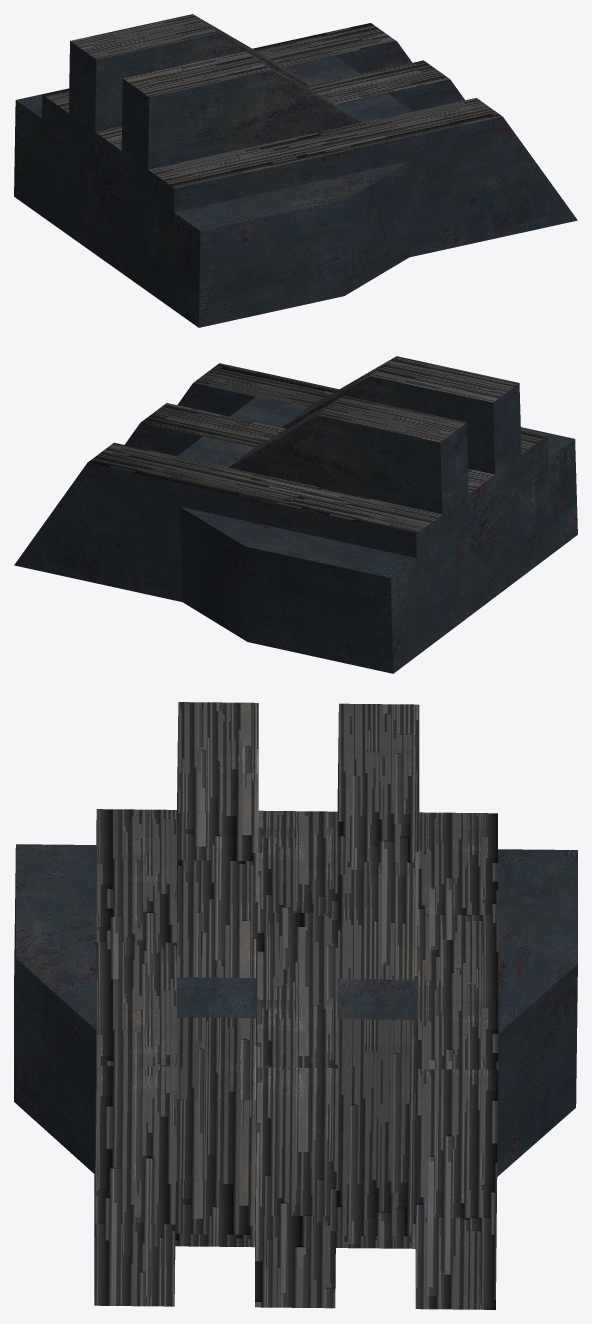
File: sword holder v4.glb
3 renders of one model, top to bottom at view 1: azimuth 30°, elevation 25°; view 2: azimuth 150°, elevation 25°; view 3: azimuth 270°, elevation 25°, orthographic. The views are drawn at different scales.
Visible parts, largest first — view 1: Object; view 2: Object; view 3: Object.
Part boxes in pixels (x1,y1,x2,y2): Object: [14, 14, 577, 327]; Object: [14, 356, 577, 673]; Object: [14, 702, 577, 1309].
Size of the model in its own units: 0.3278 by 0.1574 by 0.2594.
Materials: 2 (2 with a texture image).
